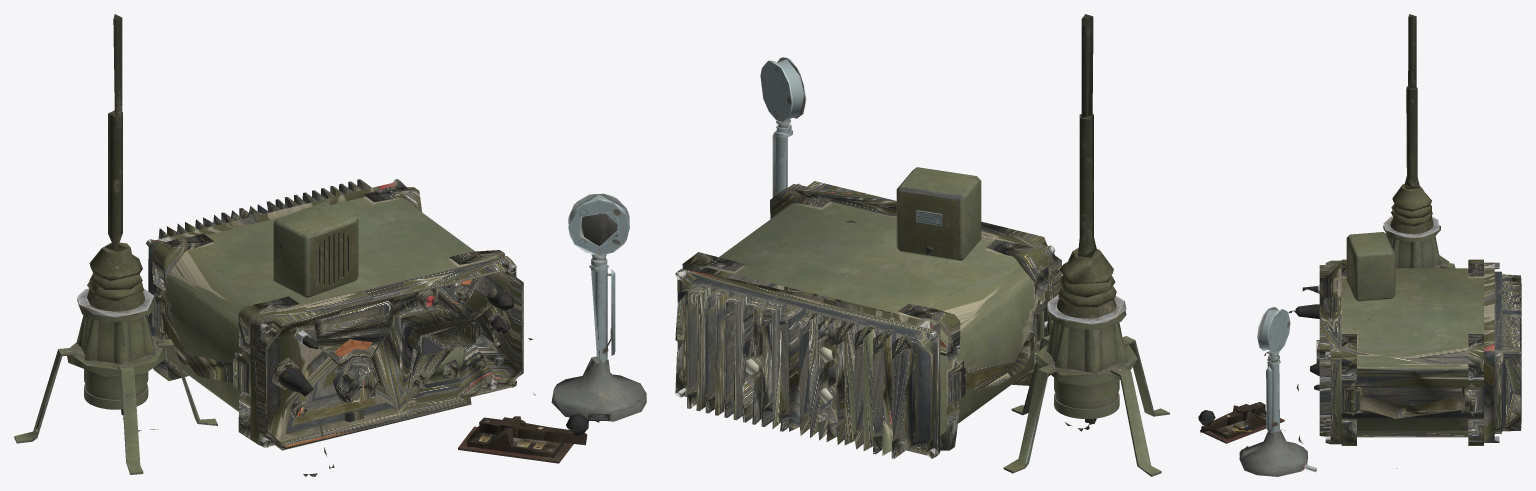
File: vintage_radio_transceiver.glb
3 renders of one model, left to right at view 1: azimuth 30°, elevation 25°; view 2: azimuth 150°, elevation 25°; view 3: azimuth 270°, elevation 25°, orthographic. The views are drawn at different scales.
Size of the model in its own units: 0.5639 by 0.4344 by 0.4124.
2 materials, 2 textured.
